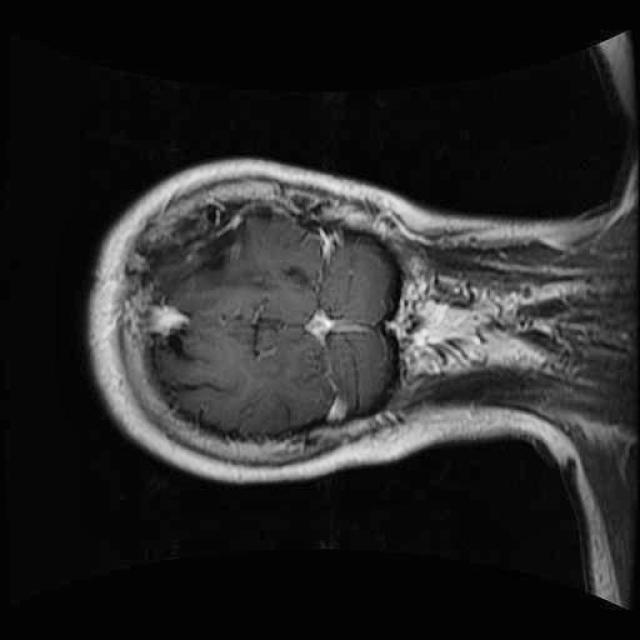Tumor: (209, 288, 307, 374)
